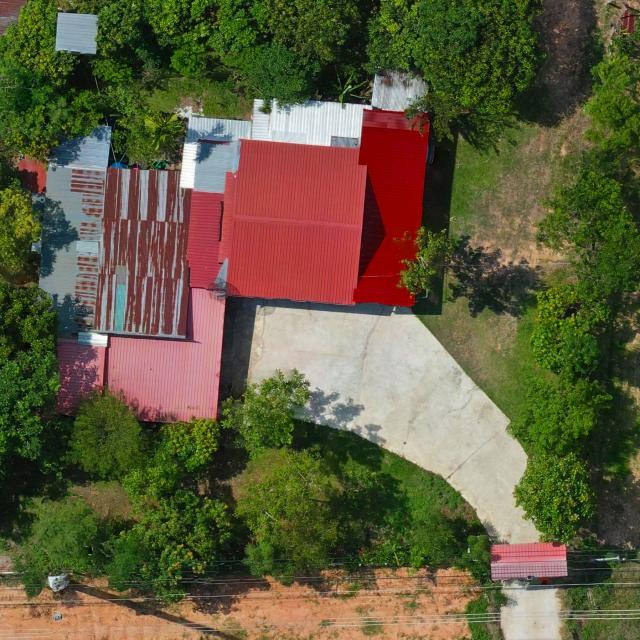Tree: (360, 0, 544, 150), (231, 448, 384, 590), (206, 0, 378, 115), (100, 487, 234, 605), (532, 149, 640, 293), (0, 34, 107, 172), (12, 496, 100, 602), (121, 414, 220, 508), (58, 380, 148, 479), (219, 366, 311, 461), (509, 372, 615, 453), (511, 453, 600, 548), (0, 348, 65, 466), (530, 284, 613, 376), (2, 0, 82, 89), (581, 54, 640, 149), (0, 170, 47, 276), (392, 226, 462, 296), (0, 279, 60, 357), (58, 0, 144, 54), (140, 0, 213, 48), (407, 510, 462, 570), (323, 64, 370, 107), (144, 113, 186, 153), (603, 11, 640, 55), (169, 41, 209, 79)
